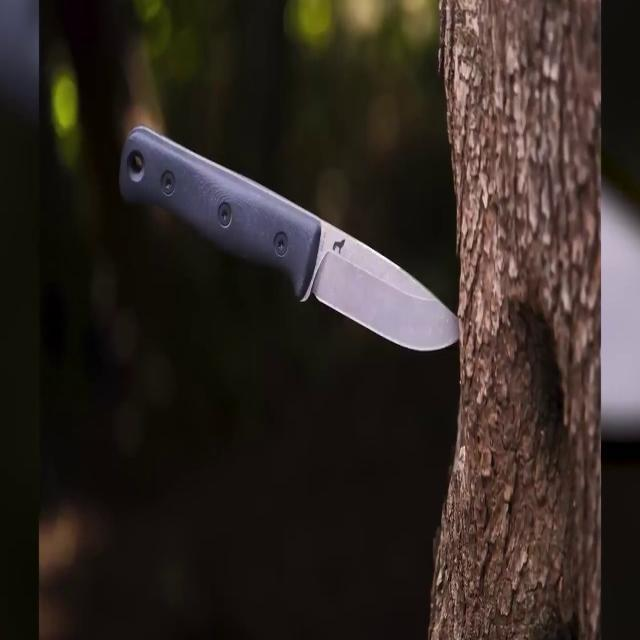Knife: (110, 121, 459, 377)
